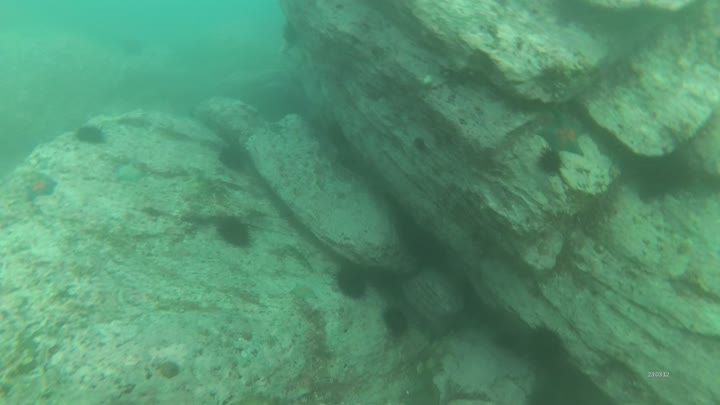echinus: (636, 149, 693, 202), (524, 322, 569, 369), (335, 260, 371, 303), (216, 215, 256, 250), (382, 306, 412, 340), (218, 144, 251, 172), (539, 146, 565, 176), (493, 329, 523, 354), (75, 124, 109, 146), (281, 21, 299, 47)
starfish: (535, 112, 589, 160), (24, 174, 60, 202)
